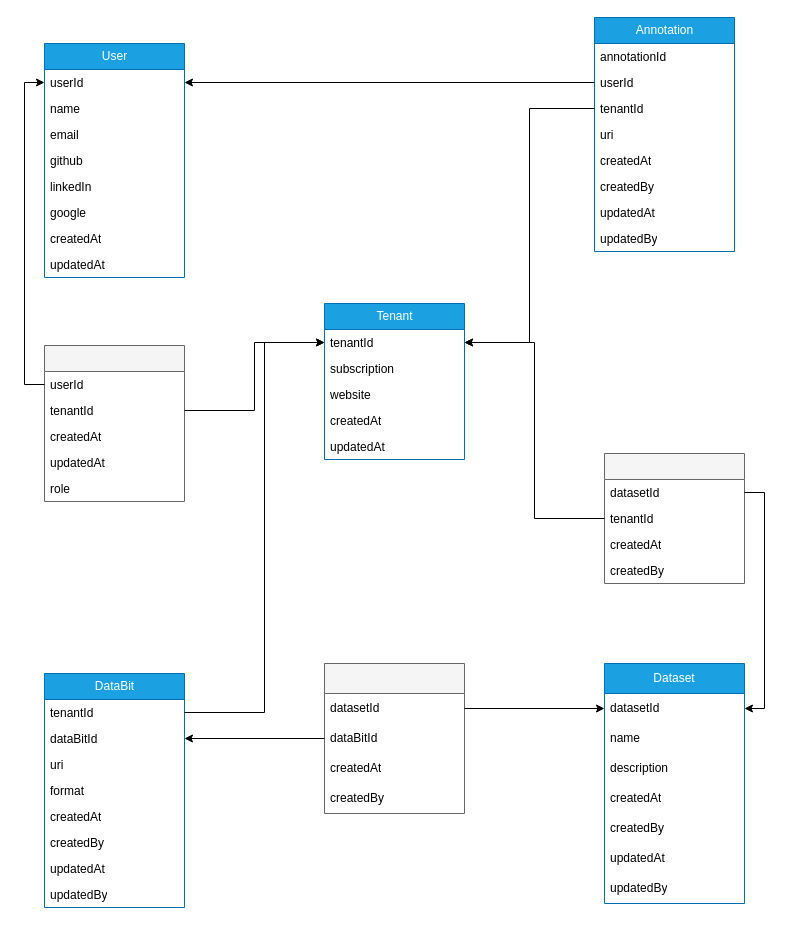
This 790x928 diagram has some shape labels left out. Each missing label, with the box of its shape:
Dataset_DataBit: (324, 662, 464, 814)
Tenant_Dataset: (604, 452, 744, 584)
Tenant_User: (44, 344, 184, 502)
